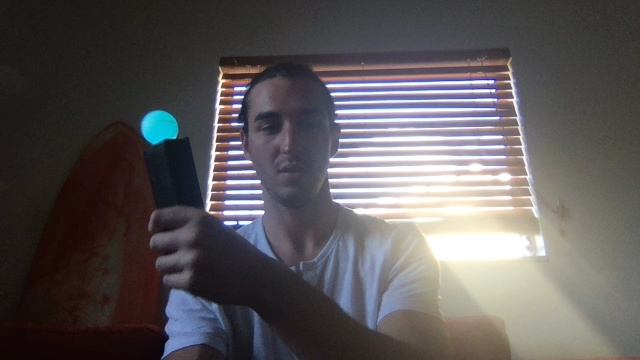wand: (143, 111, 179, 144)
